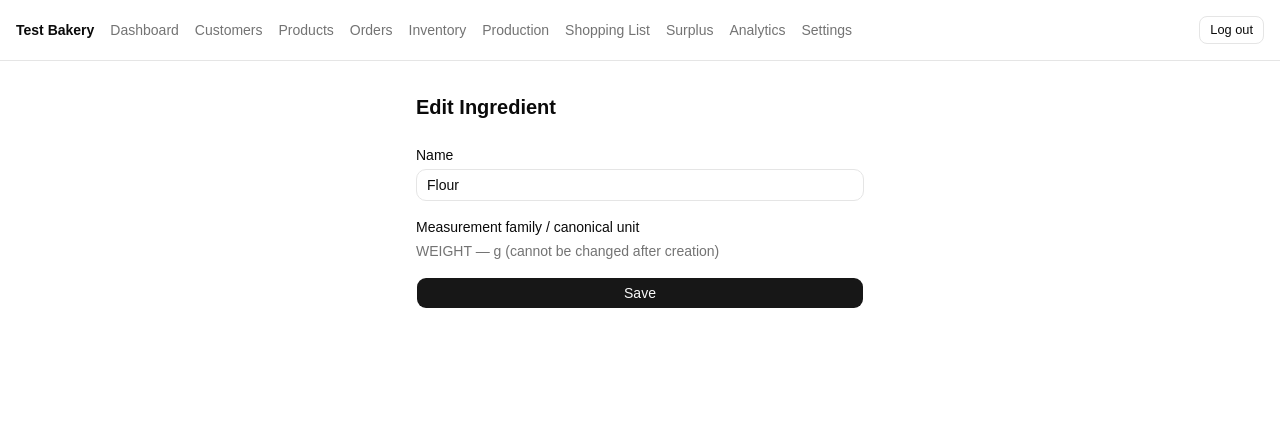
Ingredient edit form › recovers from a stale-version conflict via Refresh
expect the heading "Edit Ingredient" is shown: met, box x1=416 y1=96 x2=556 y2=118
Replace the text in the field labelled "Name" with "Locally renamed" at (640, 185), box x1=416 y1=169 x2=864 y2=201
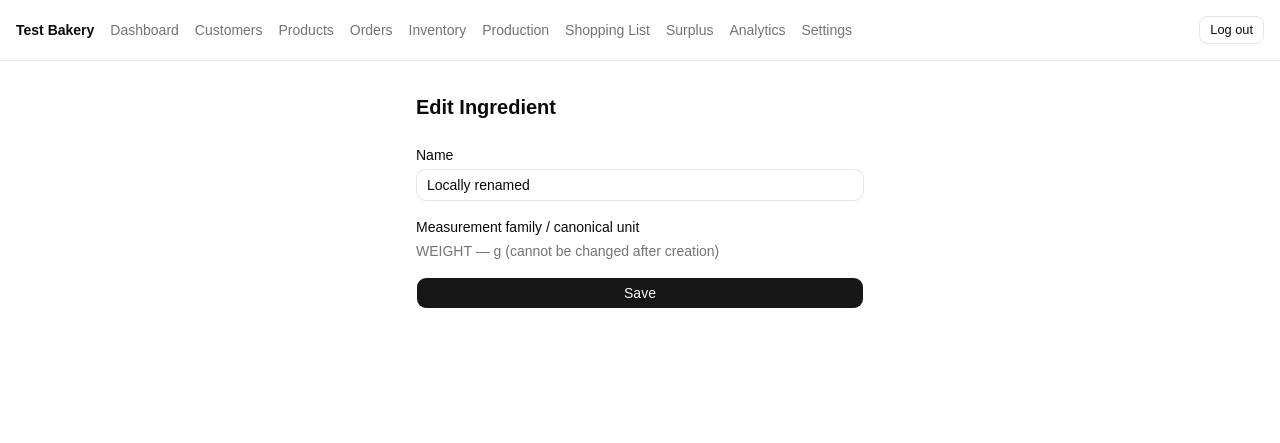
Click the button "Save".
click(640, 293)  # box x1=416 y1=277 x2=864 y2=309
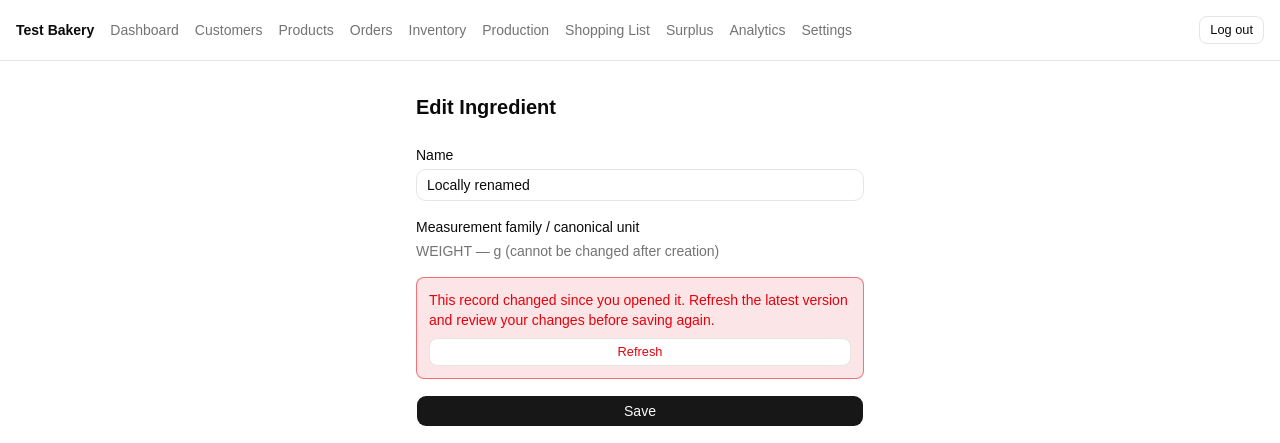
expect the text "changed since you opened it" is shown: met, box x1=429 y1=292 x2=848 y2=328
Click the button "Refresh".
click(640, 352)  # box x1=429 y1=338 x2=851 y2=366
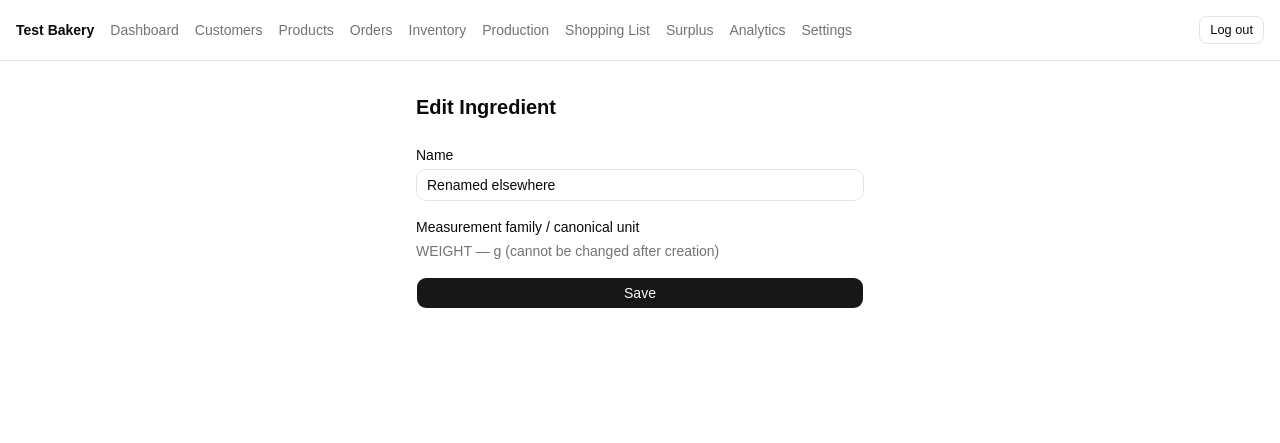
expect the field labelled "Name" holds "Renamed elsewhere": met, box x1=416 y1=169 x2=864 y2=201
expect the text "changed since you opened it" is gone: met
